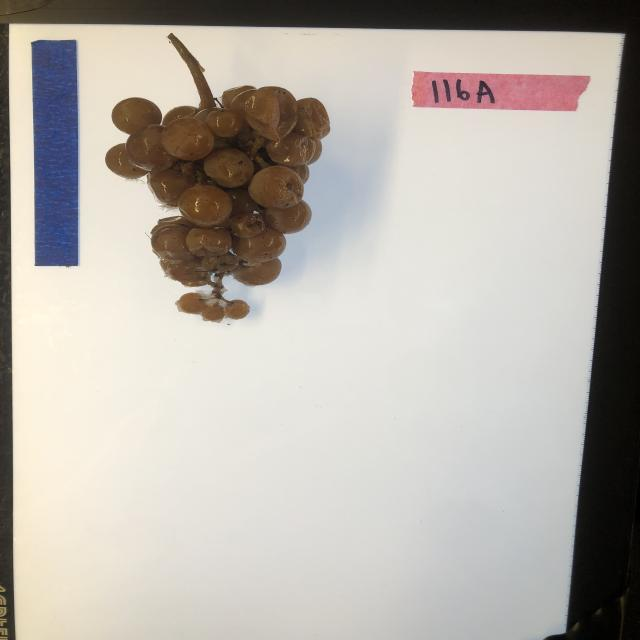grape_cluster: (100, 32, 334, 331)
index: (409, 67, 592, 117)
measure_label: (30, 38, 81, 269)
